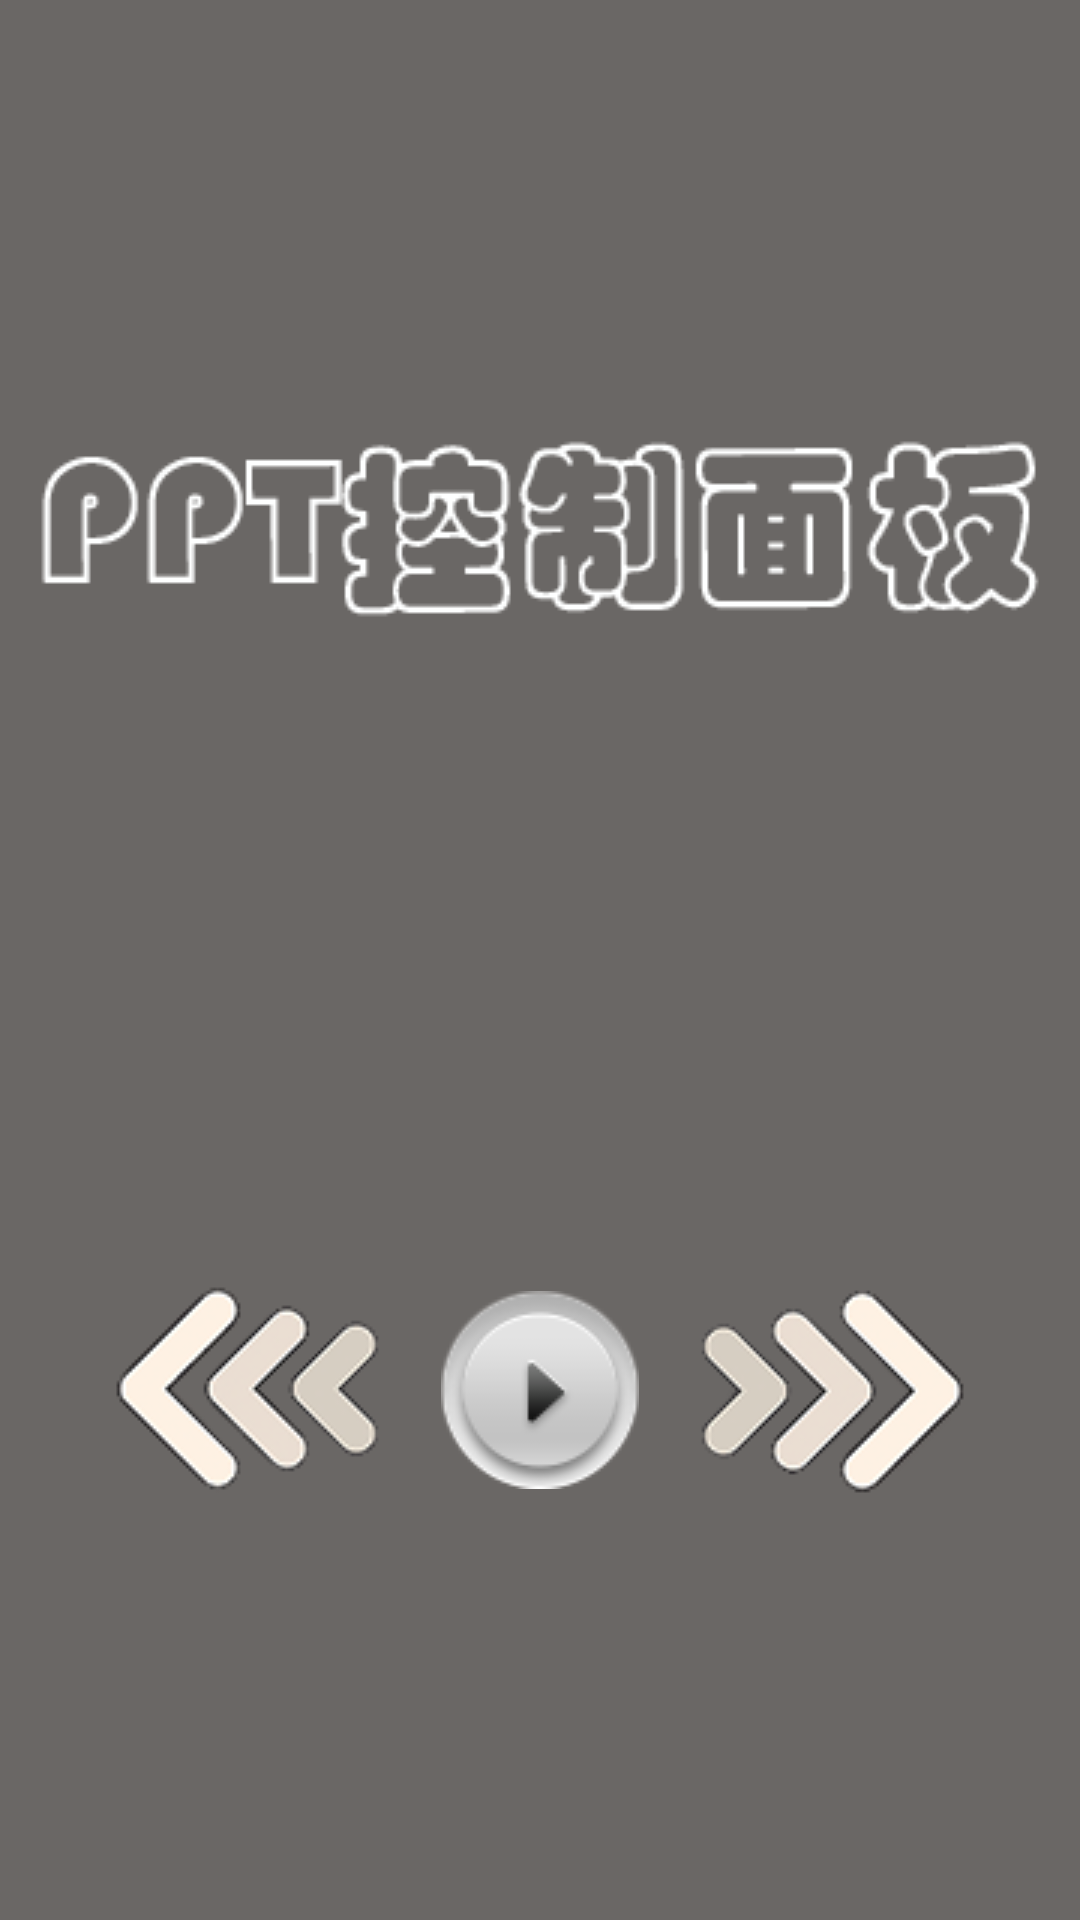

Icon click points for this 1080x1920 phone screenshot, format (x,y):
ppt left: (247,1388)
ppt right: (832,1391)
